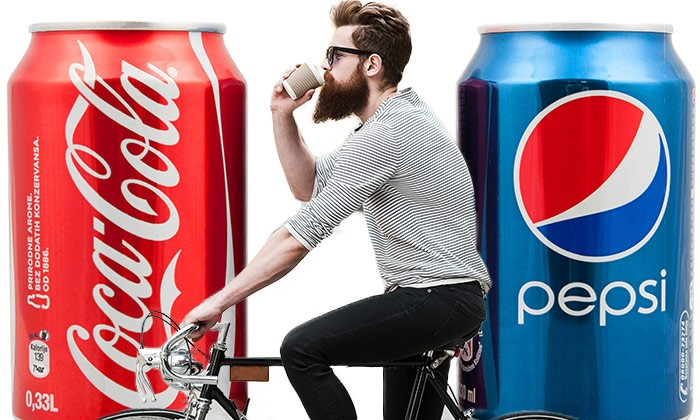pepsi: (510, 89, 670, 262)
